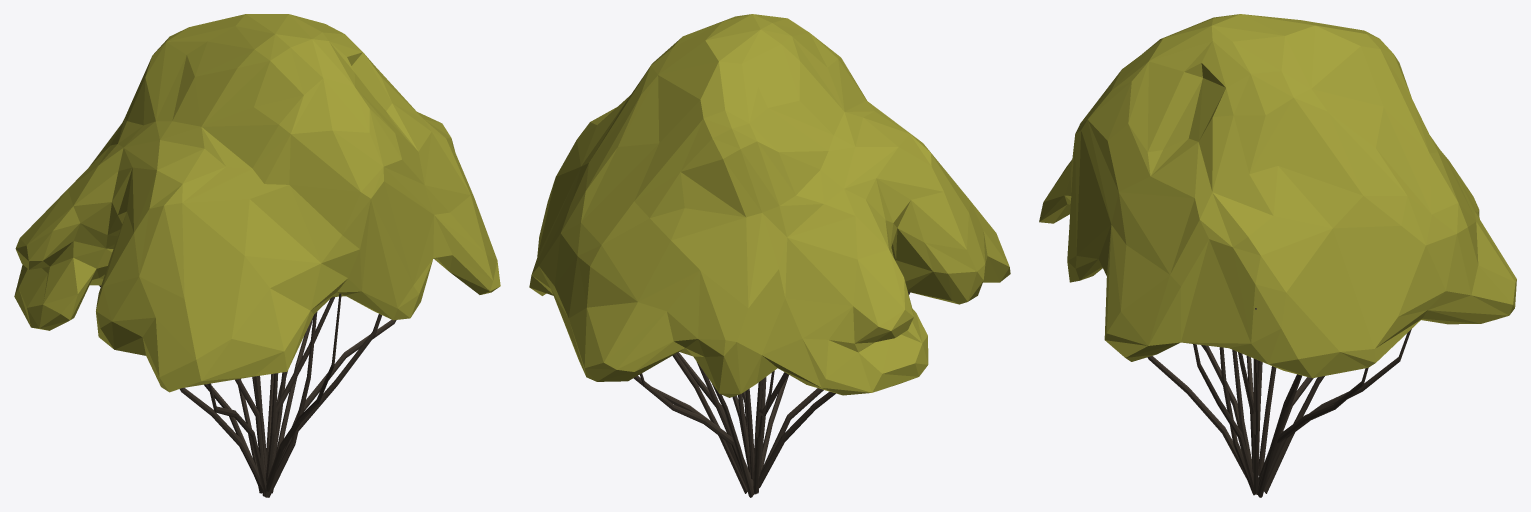
File: FINAL_NN_Tree1_witch.fbx
3 renders of one model, left to right at view 1: azimuth 30°, elevation 25°; view 2: azimuth 150°, elevation 25°; view 3: azimuth 270°, elevation 25°, orthographic. The views are drawn at different scales.
Parts seen in each view (by area): view 1: polySurface19; view 2: polySurface19; view 3: polySurface19.
Part boxes in pixels (box(x1,y1,x2,y2)): polySurface19: box(14, 14, 500, 497); polySurface19: box(529, 14, 1010, 497); polySurface19: box(1039, 14, 1516, 497).
Bounding box in the file's own units: 26.09 × 28.94 × 26.04.
